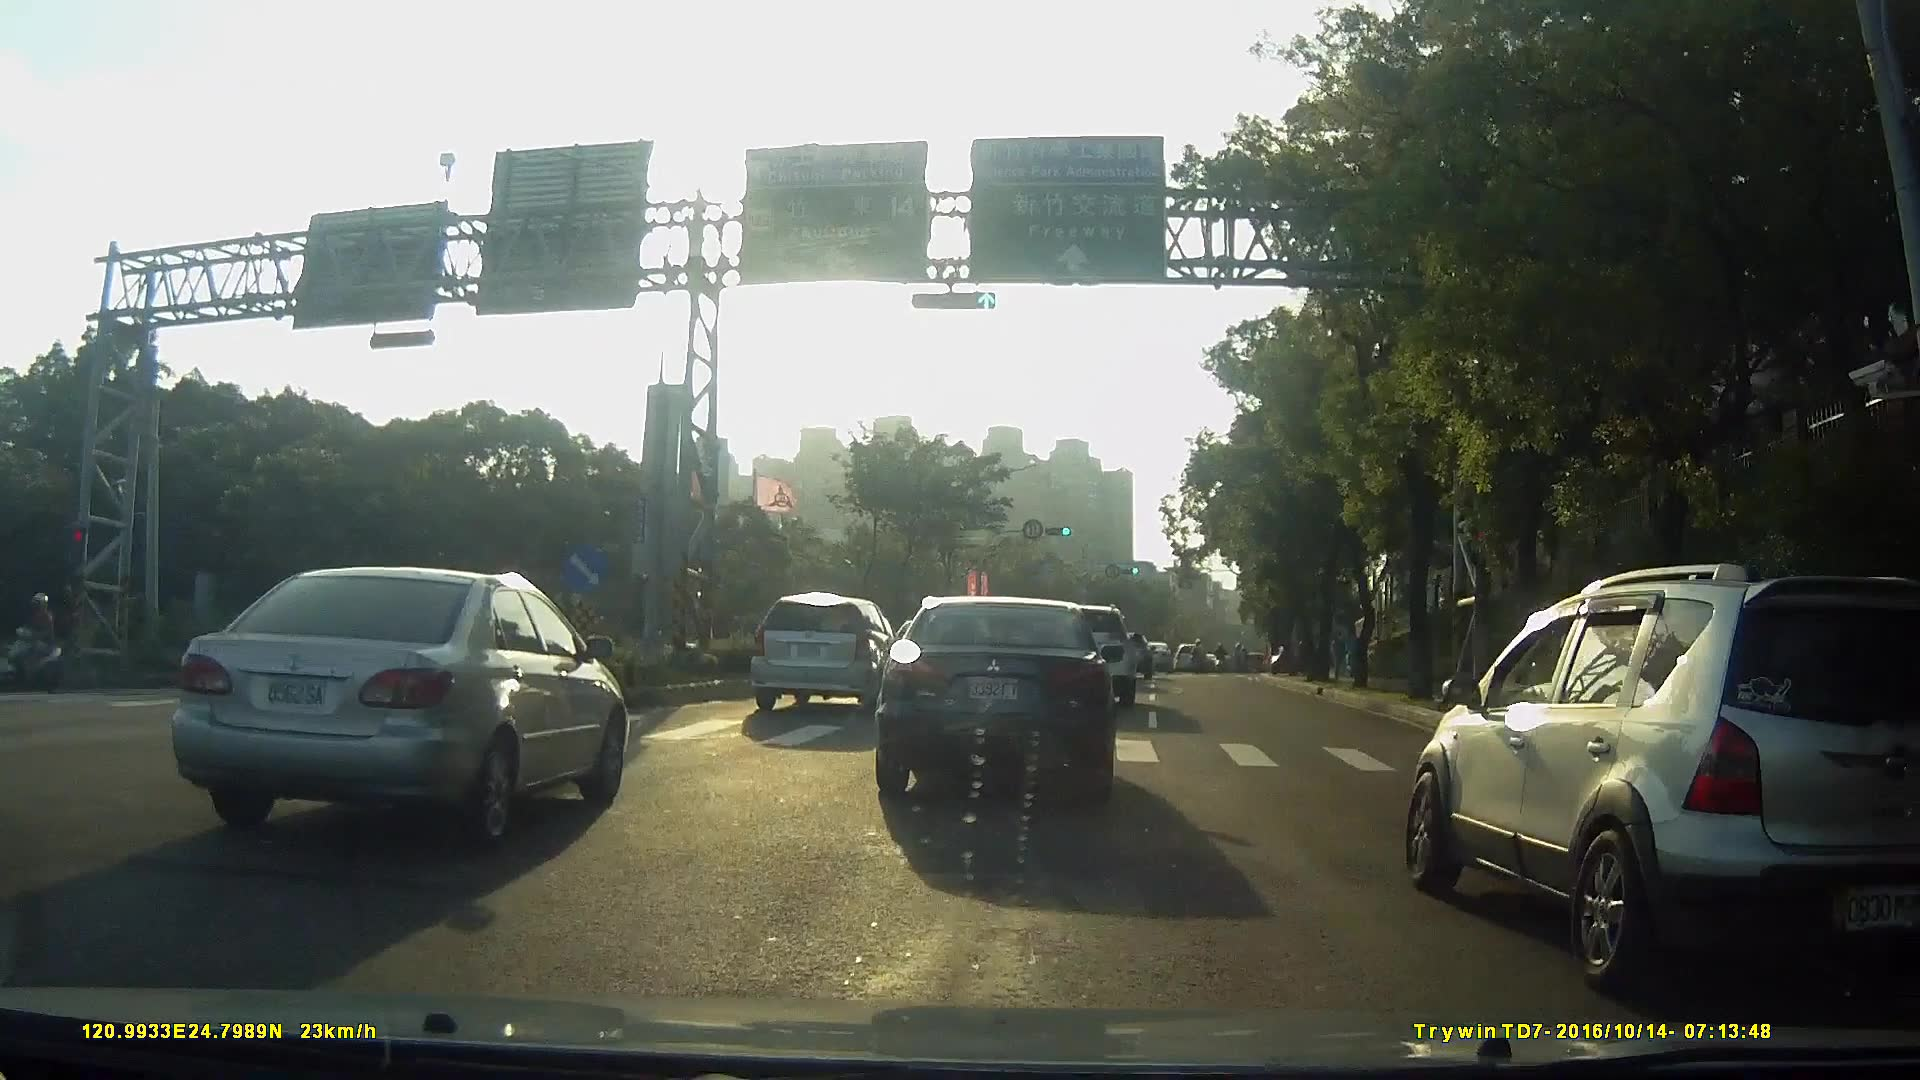rider: (12, 594, 69, 693)
vehicle: (1396, 563, 1920, 999), (149, 558, 645, 859), (863, 597, 1139, 813), (738, 592, 894, 717), (1132, 638, 1166, 670), (1163, 640, 1194, 672)
